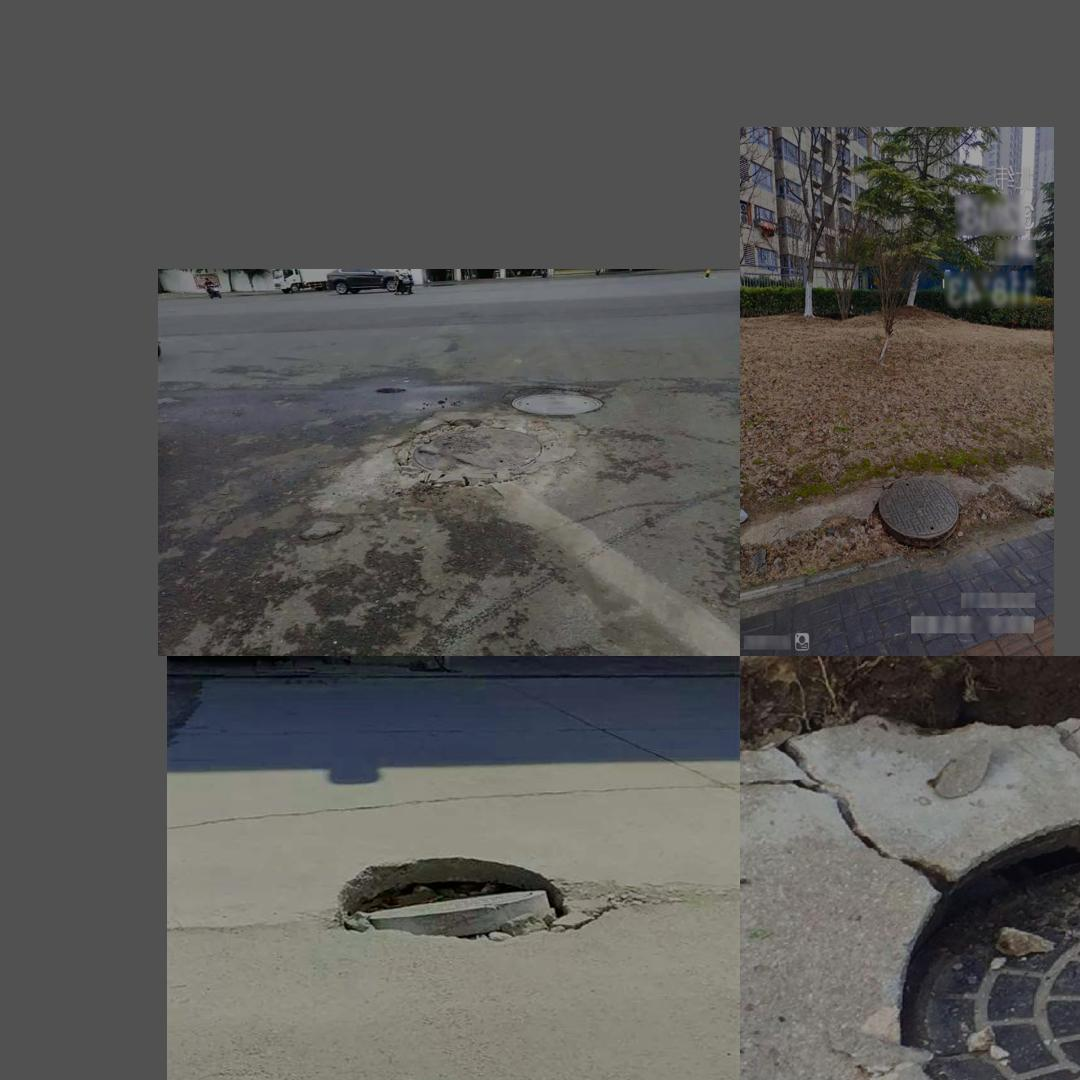circle: (751, 676, 1080, 1080), (310, 844, 648, 966), (347, 412, 571, 520), (874, 474, 960, 546)
